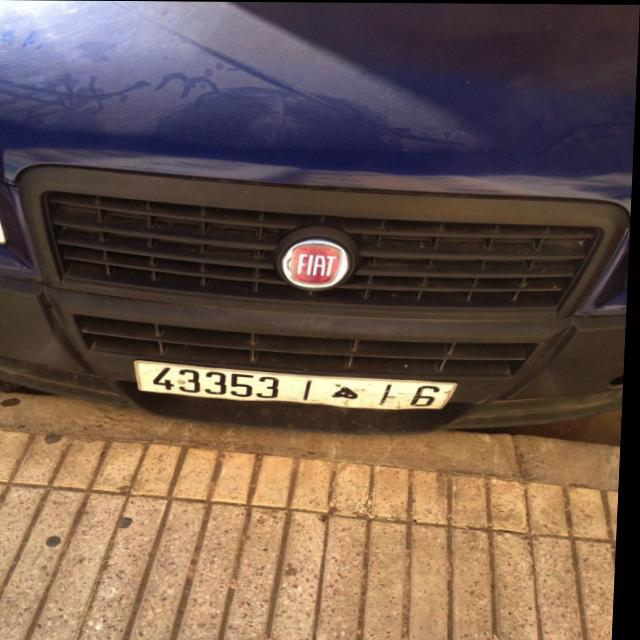License-Plate: (137, 360, 462, 409)
